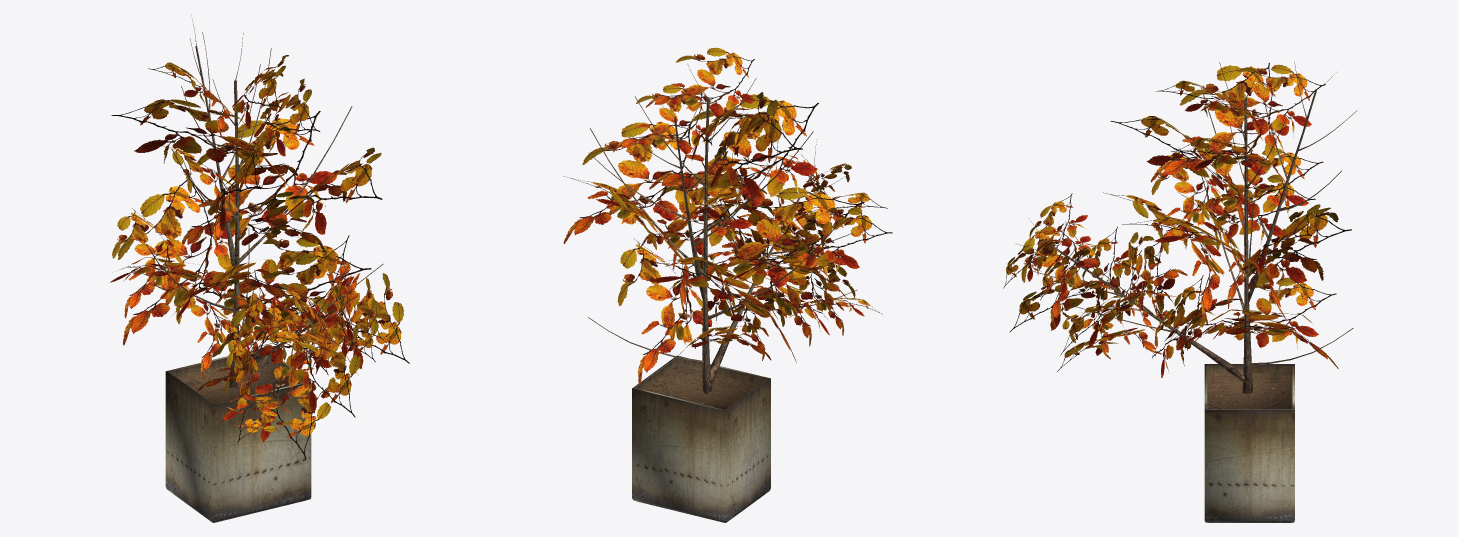
Rendered from potted plant 08.FBX.
3 renders of one model, left to right at view 1: azimuth 30°, elevation 25°; view 2: azimuth 150°, elevation 25°; view 3: azimuth 270°, elevation 25°, orthographic. The views are drawn at different scales.
Visible parts, largest first — view 1: potted plant 08; view 2: potted plant 08; view 3: potted plant 08.
Part boxes in pixels (left/top/right/bottom): potted plant 08: left=110, top=15, right=409, bottom=522; potted plant 08: left=563, top=47, right=892, bottom=522; potted plant 08: left=1003, top=62, right=1357, bottom=522.
Bounding box in the file's own units: 203 × 221 × 215.
Materials: 3 (3 with a texture image).
